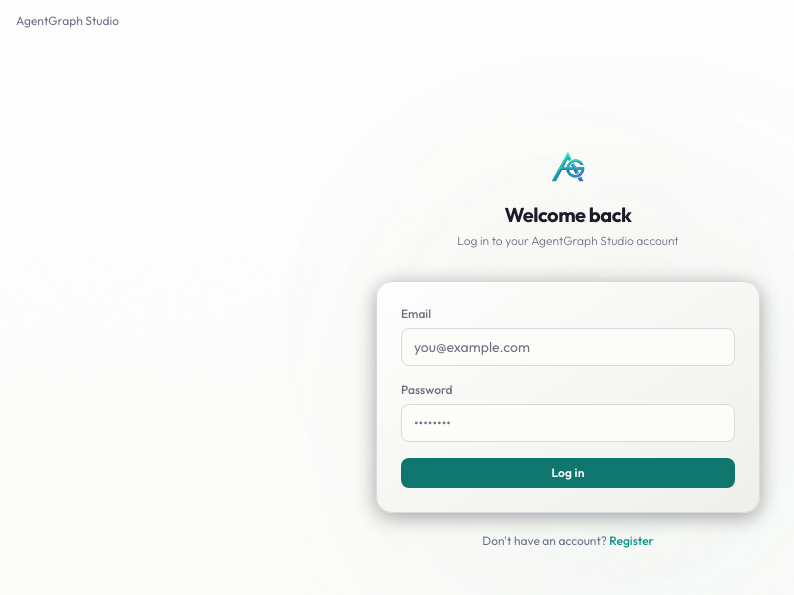
Scenario: LoginPage › shows the server error detail when credentials are invalid
Step 1. Type "tester@example.com" into the field labelled "Email" → (568, 347), box left=401, top=328, right=735, bottom=366
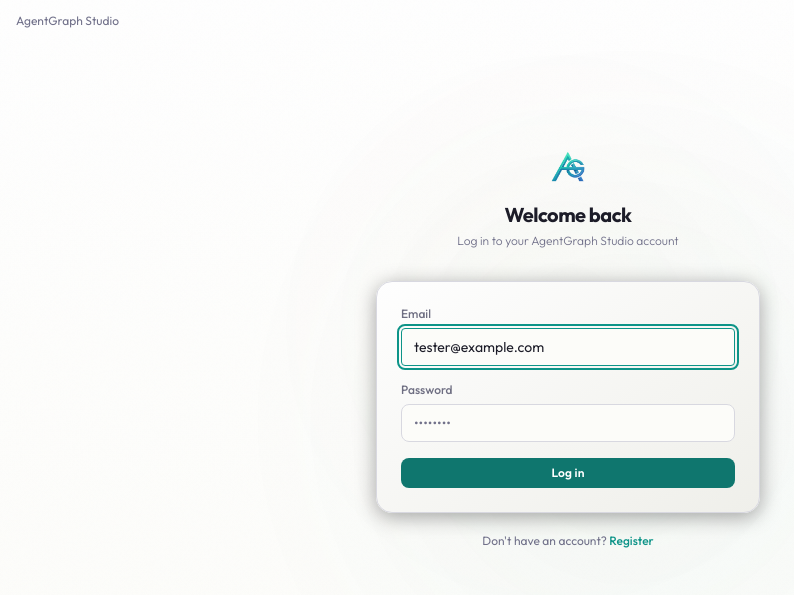
Step 2. Type "wrong" into the password field labelled "Password" → (568, 423), box left=401, top=404, right=735, bottom=442
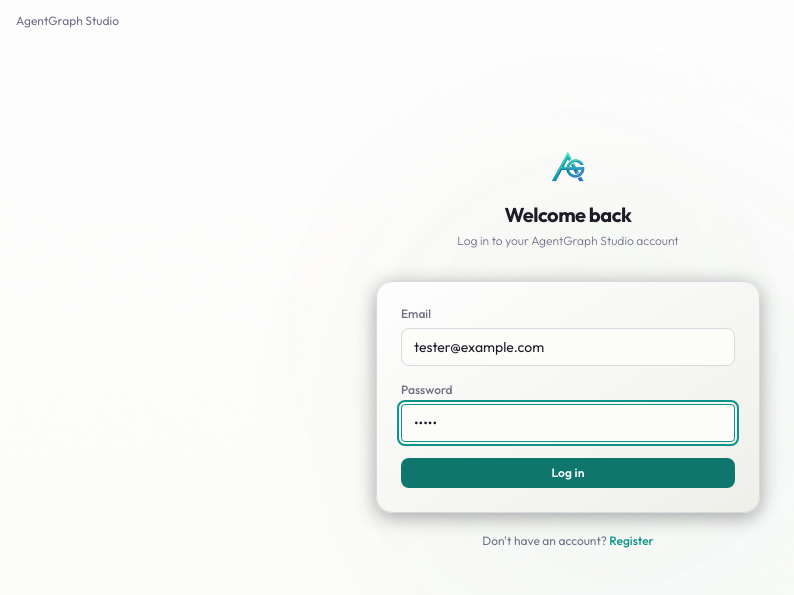
Step 3. Click the button "Log in" → (568, 473), box left=401, top=458, right=735, bottom=488
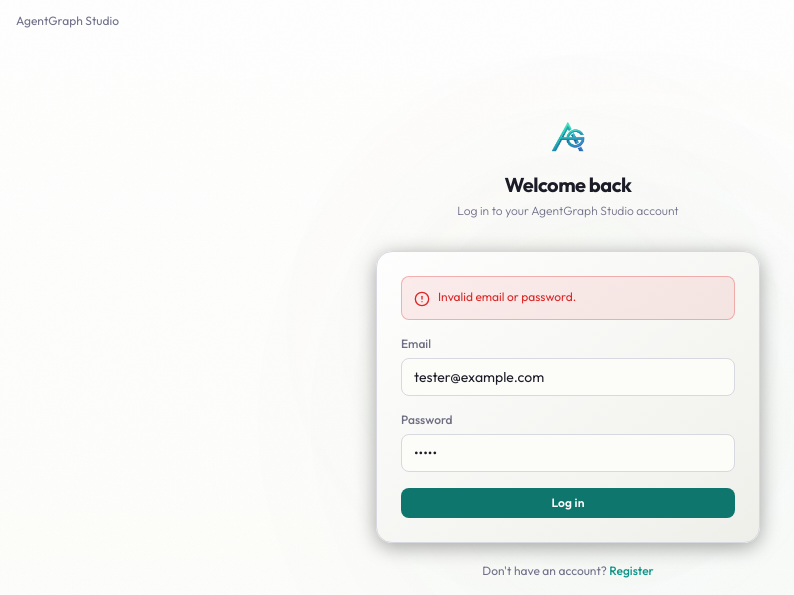
Now the text "Invalid email or password." is shown, box left=438, top=289, right=576, bottom=305
